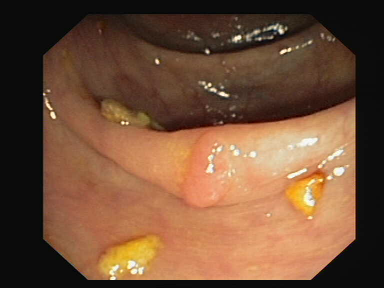polyp: (71, 213, 185, 281), (181, 120, 246, 213), (277, 155, 337, 225), (97, 82, 169, 136)
